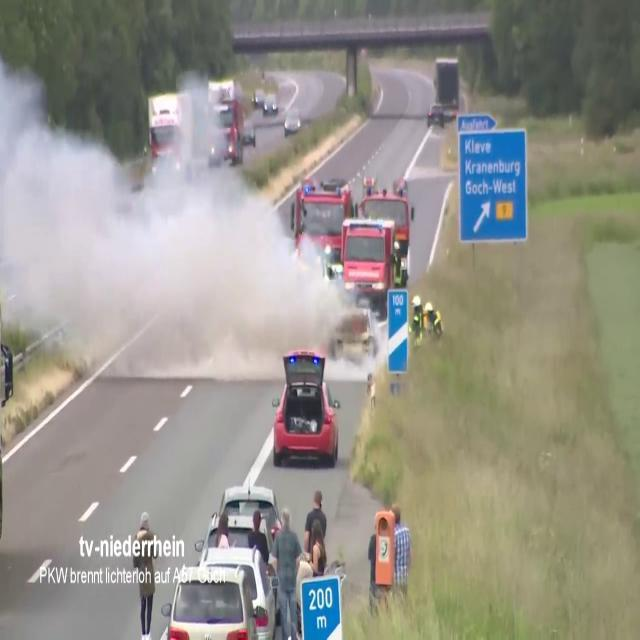Smoke: (0, 27, 342, 379)
